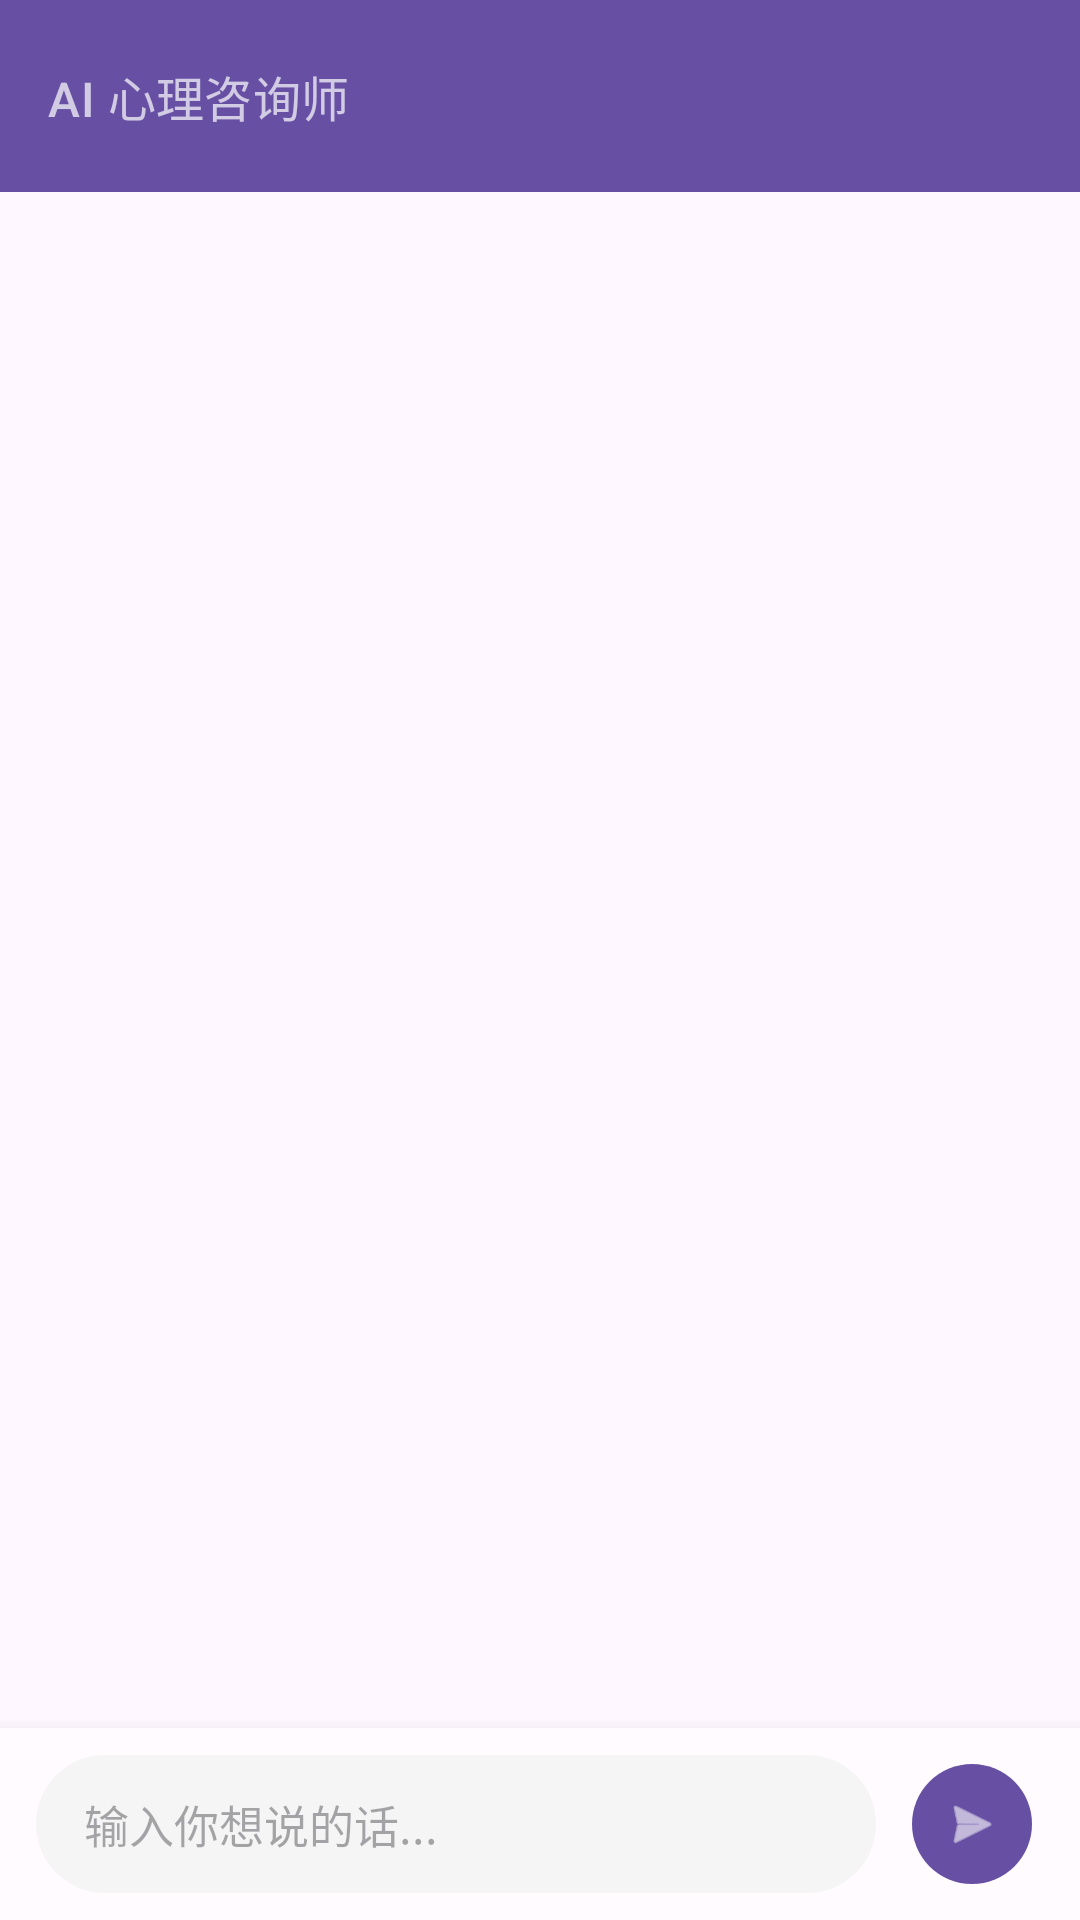

Screen size 1080px×1920px. Icon name, then its center in pixels as (x=x, y=y):
send: (x=972, y=1824)
